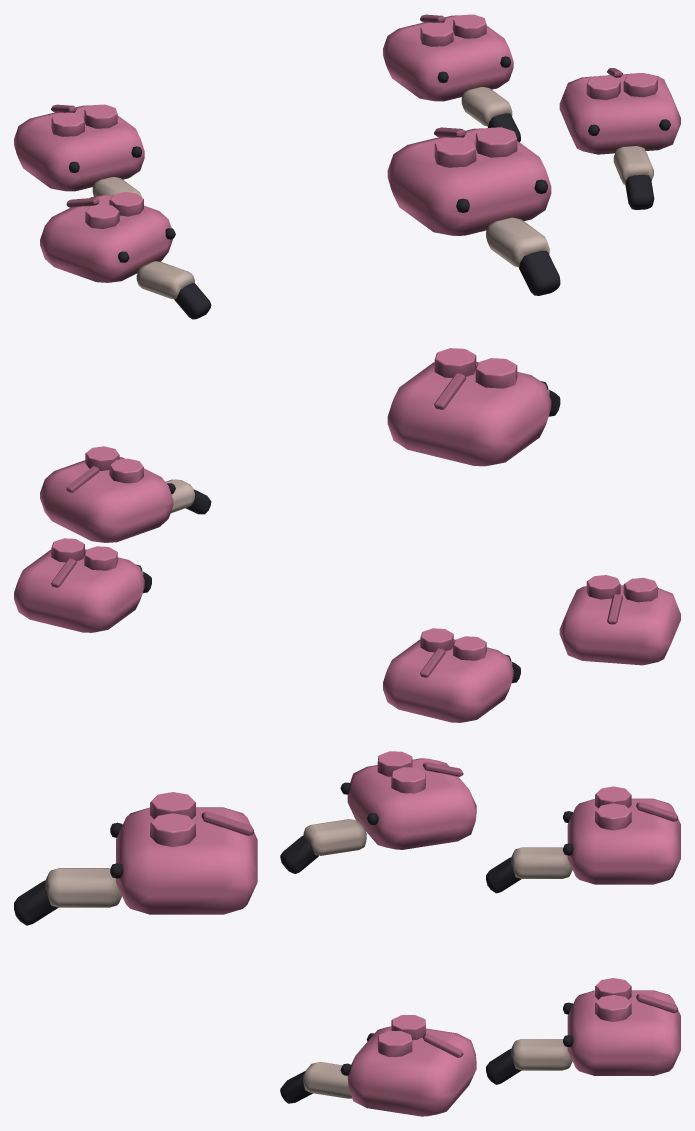
The model's file is flamingo-flock-lod1.glb.
3 renders of one model, top to bottom at view 1: azimuth 30°, elevation 25°; view 2: azimuth 150°, elevation 25°; view 3: azimuth 270°, elevation 25°, orthographic. The views are drawn at different scales.
Visible parts, largest first — view 1: cap_hat, att3_hat, att0_hat, att2_hat, att1_hat; view 2: cap_hat, att2_hat, att1_hat, att0_hat, att3_hat; view 3: cap_hat, att3_hat, att1_hat, att0_hat, att2_hat.
Part boxes in pixels (x1,y1,x2,y2): cap_hat: (387, 127, 560, 295); att3_hat: (40, 192, 211, 319); att0_hat: (383, 14, 520, 142); att2_hat: (559, 68, 680, 209); att1_hat: (14, 104, 144, 196); cap_hat: (387, 348, 560, 466); att2_hat: (40, 446, 211, 542); att1_hat: (383, 628, 520, 722); att0_hat: (14, 538, 151, 632); att3_hat: (559, 575, 680, 665); cap_hat: (14, 792, 257, 925); att3_hat: (280, 751, 476, 873); att1_hat: (486, 786, 680, 893); att0_hat: (486, 978, 680, 1084); att2_hat: (280, 1015, 476, 1116).
Size of the model in its own units: 2.09 by 0.5274 by 1.83.
